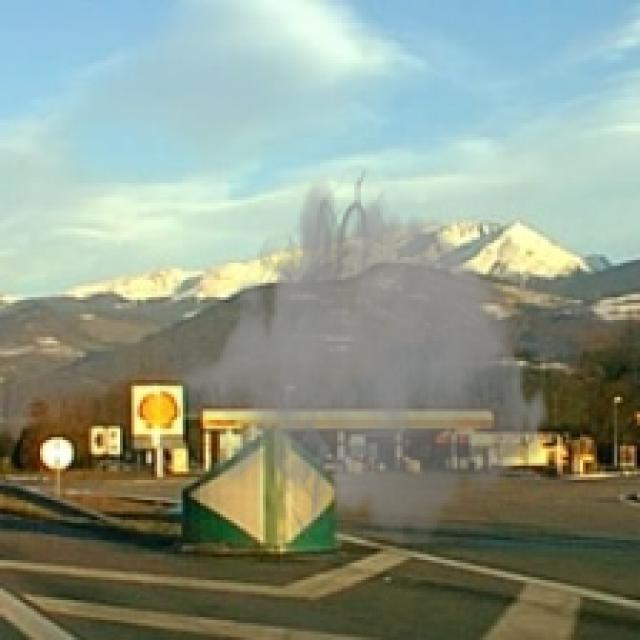Smoke: (177, 163, 552, 580)
